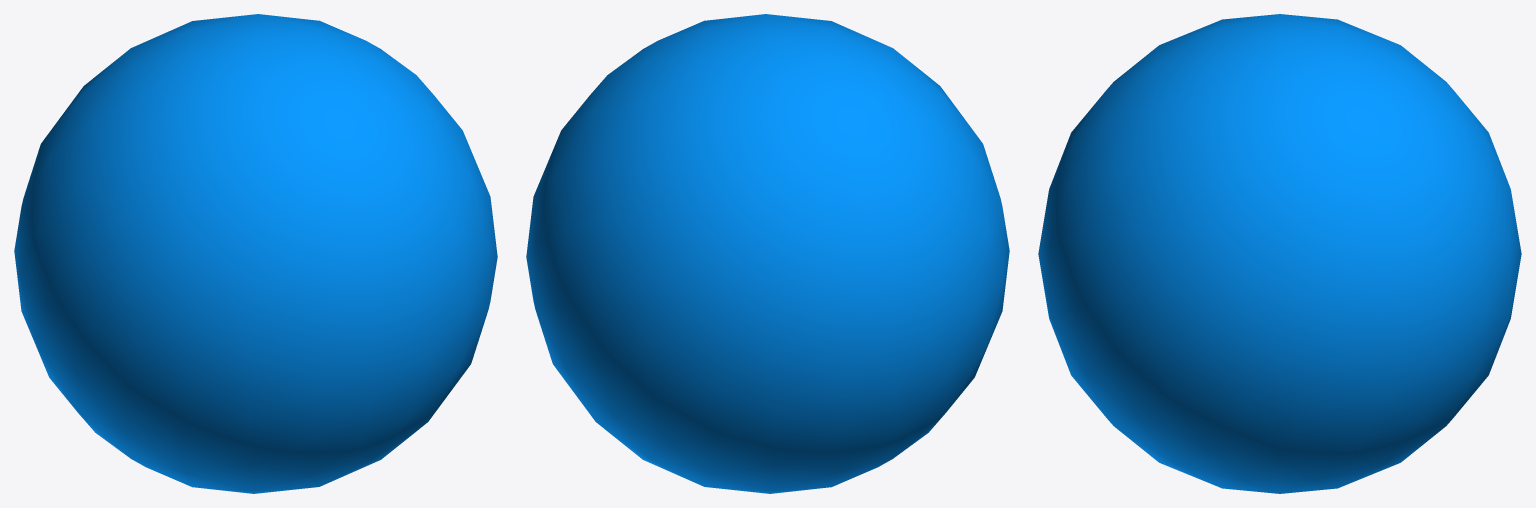
The model's file is hud_test13.dae.
3 renders of one model, left to right at view 1: azimuth 30°, elevation 25°; view 2: azimuth 150°, elevation 25°; view 3: azimuth 270°, elevation 25°, orthographic.
Parts seen in each view (by area): view 1: sky; view 2: sky; view 3: sky.
Part boxes in pixels (<box>): sky: <box>14,14,497,493</box>; sky: <box>526,14,1009,493</box>; sky: <box>1038,14,1521,493</box>.
Size of what is drawn, in the model's own units: 669 by 669 by 669.
